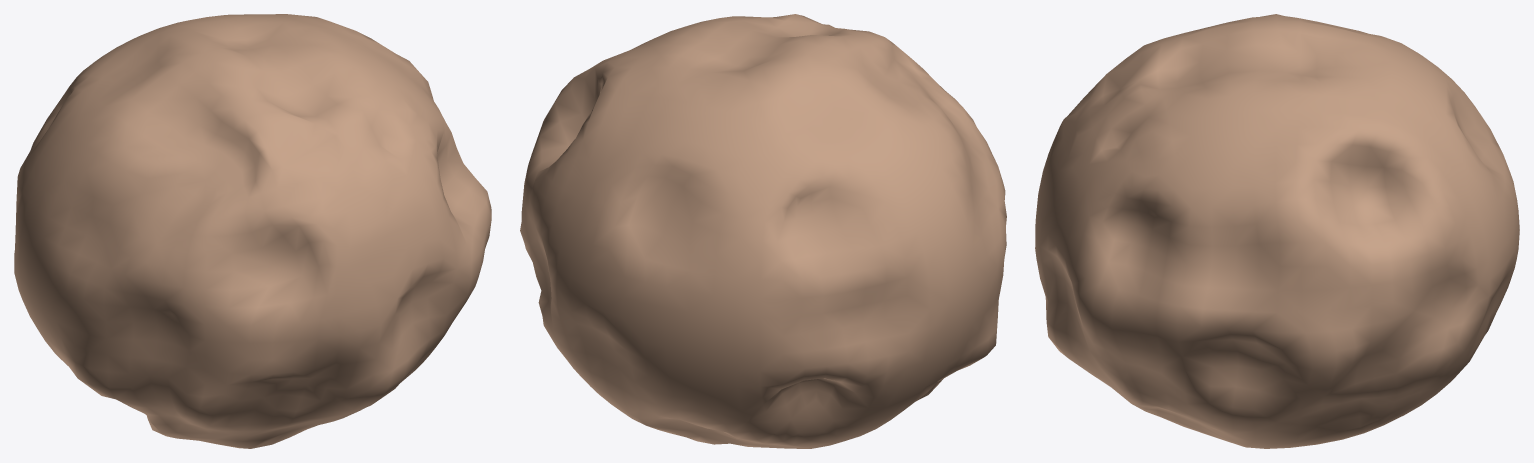
The model's file is planet.FBX.
3 renders of one model, left to right at view 1: azimuth 30°, elevation 25°; view 2: azimuth 150°, elevation 25°; view 3: azimuth 270°, elevation 25°, orthographic. The views are drawn at different scales.
Parts seen in each view (by area): view 1: sphere; view 2: sphere; view 3: sphere.
Boxes of the visible parts, x1=… form: sphere: x1=14, y1=14, x2=491, y2=448; sphere: x1=520, y1=14, x2=1006, y2=448; sphere: x1=1035, y1=14, x2=1519, y2=448.
Size of the model in its own units: 87.99 by 74.41 by 86.97.
